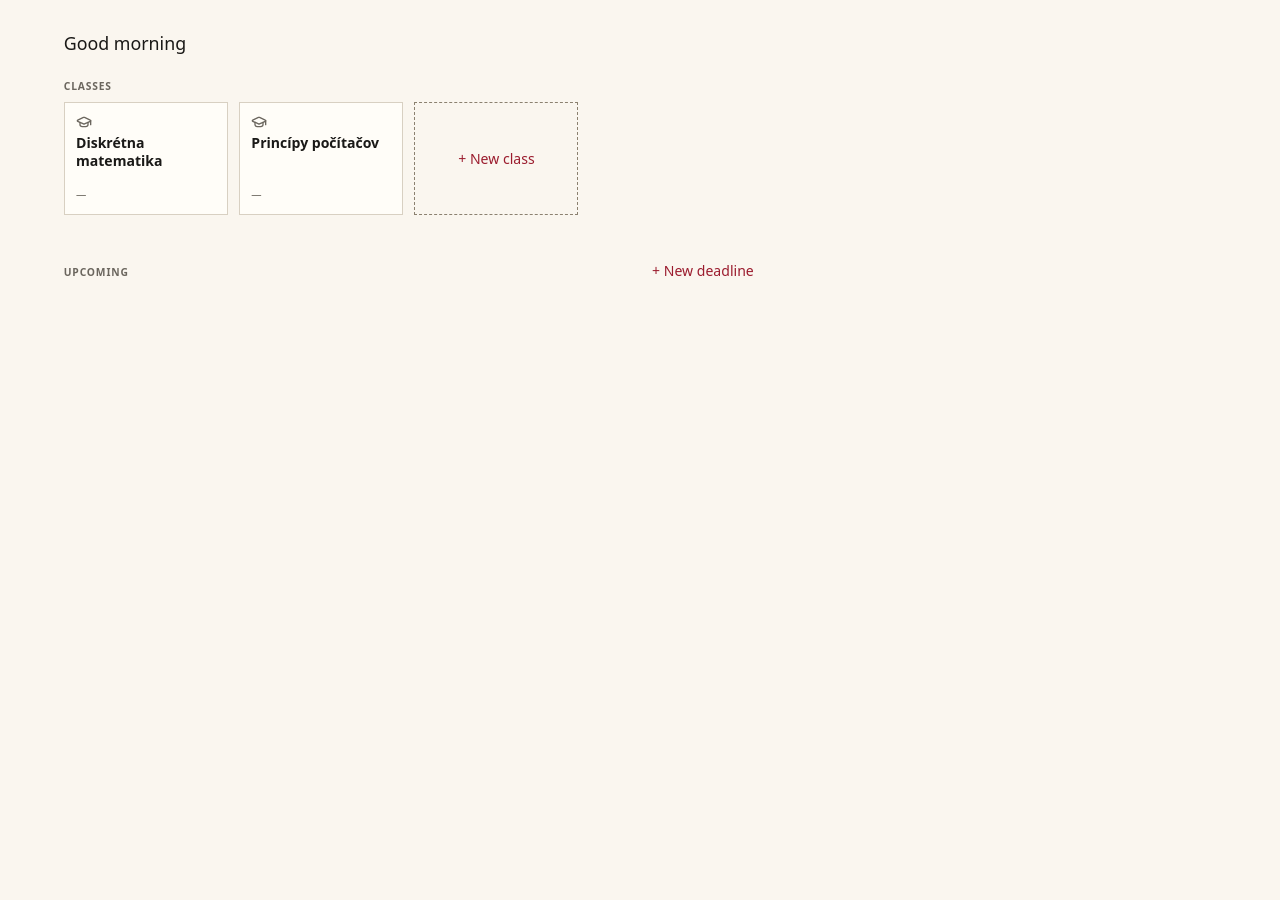
Scenario: Home upcoming › opens the modal with no class preselected
Click the button "+ New deadline" at (703, 270), box [652, 260, 754, 281]
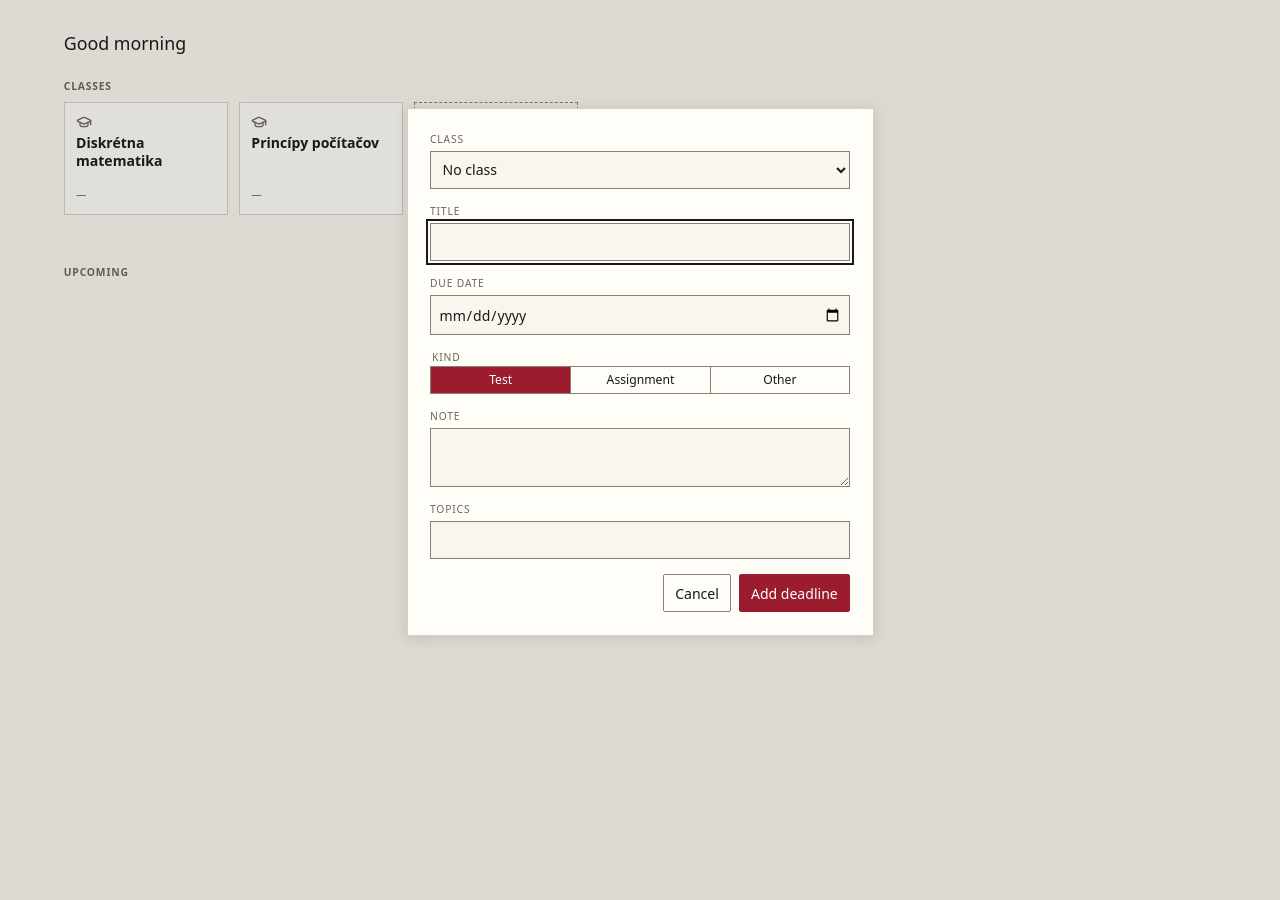
Result: the dropdown labelled "Class" shows "No class" at [430, 151, 850, 189]
